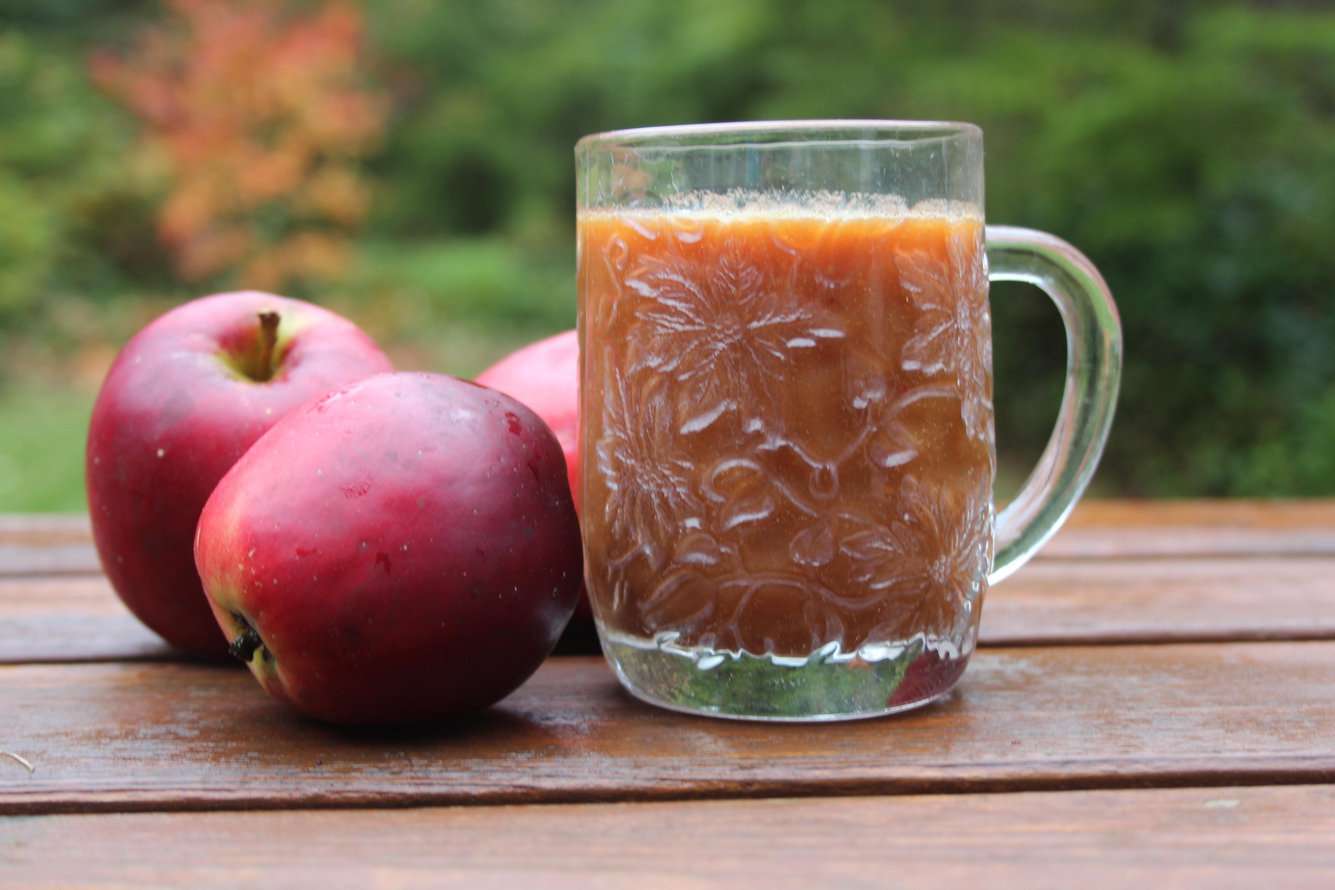glass-mug: (561, 116, 1128, 725)
